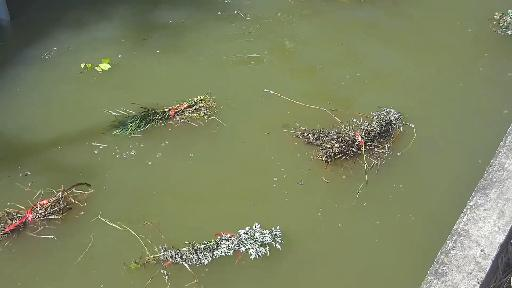leaf: (67, 57, 119, 83)
twig: (261, 80, 406, 201), (64, 216, 314, 280), (87, 89, 236, 151), (0, 168, 97, 242), (481, 0, 512, 35)
